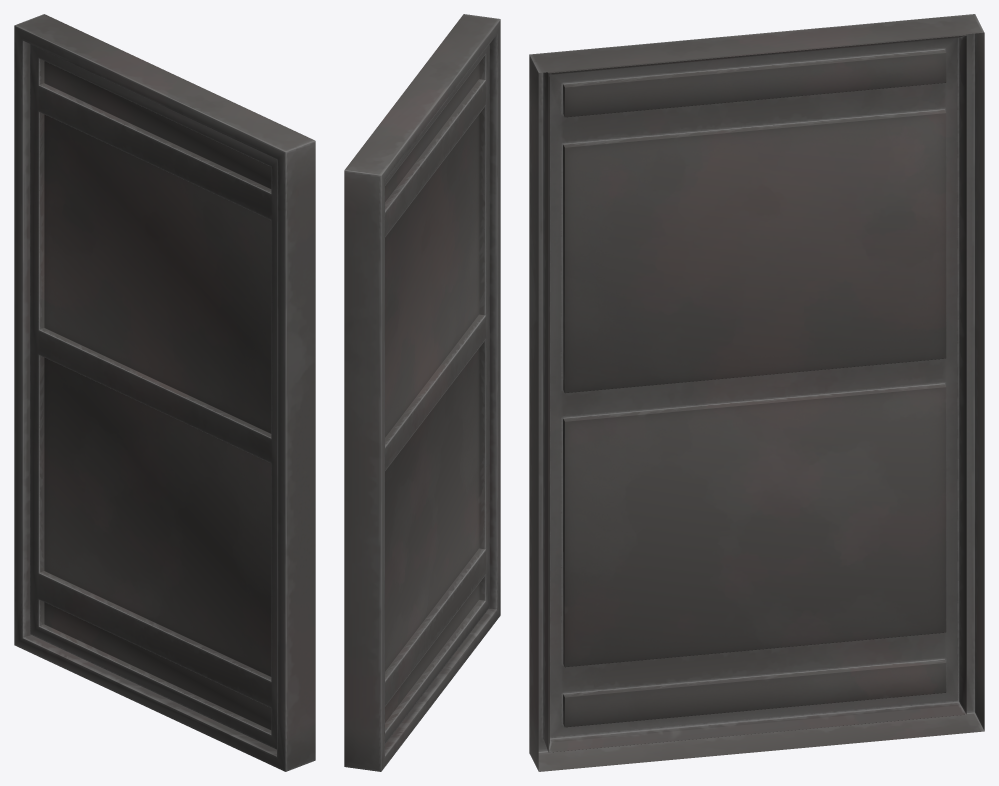
The model's file is door1.fbx.
3 views of the same model, side by side, from view 1: azimuth 30°, elevation 25°; view 2: azimuth 150°, elevation 25°; view 3: azimuth 270°, elevation 25° (orthographic). The views are drawn at different scales.
Parts seen in each view (by area): view 1: doorWithFrame; view 2: doorWithFrame; view 3: doorWithFrame.
Part boxes in pixels (box(x1,y1,x2,y2)): doorWithFrame: box(14, 14, 315, 771); doorWithFrame: box(344, 14, 500, 771); doorWithFrame: box(529, 14, 984, 771).
Bounding box in the file's own units: 36.41 × 200 × 118.
Materials: 1 (1 with a texture image).
